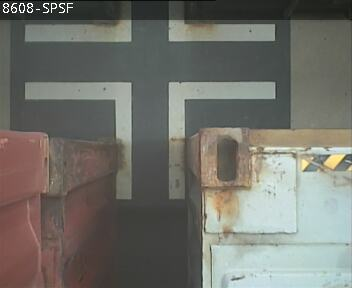groundmarker_1: (25, 81, 277, 198)
